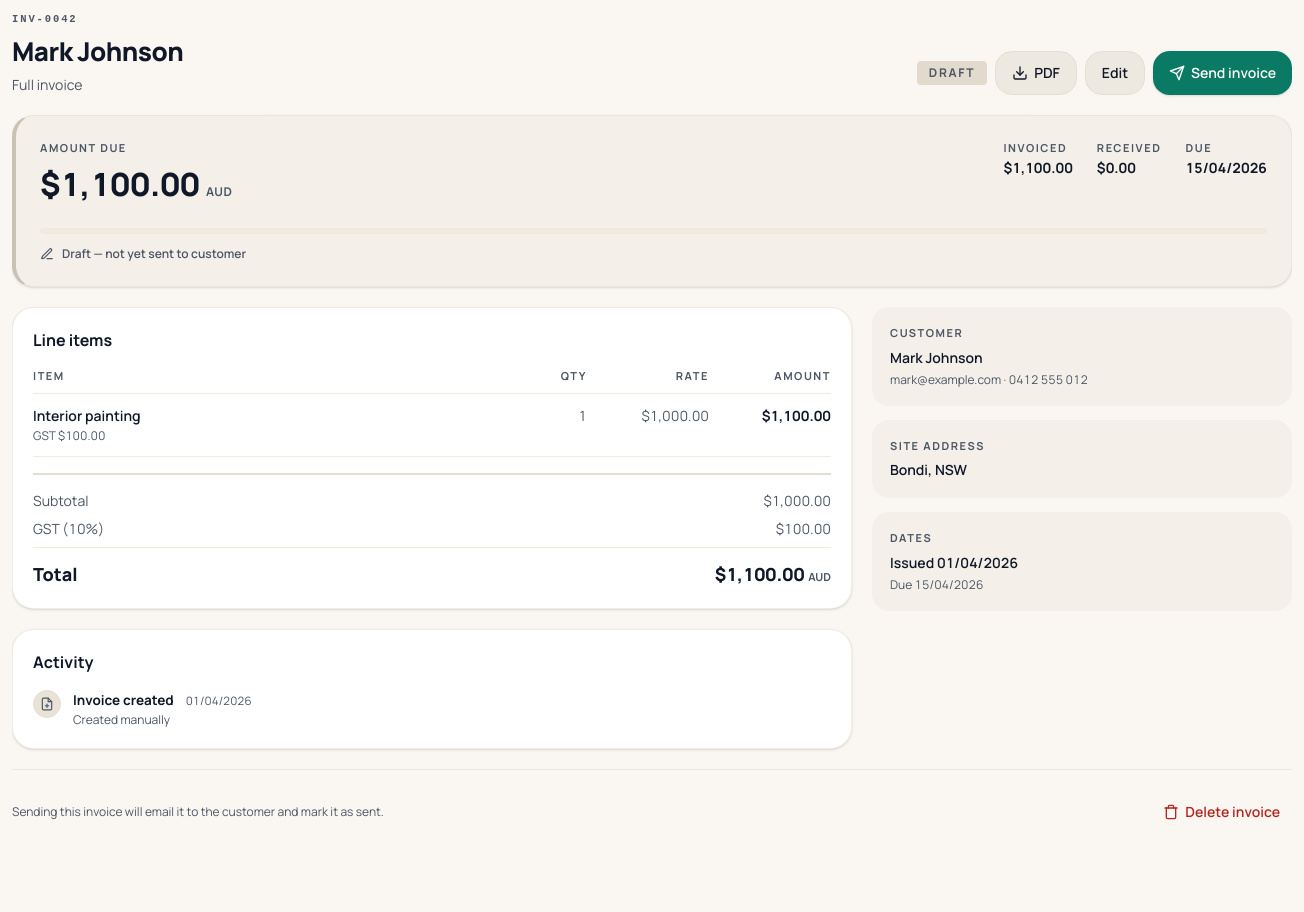
Scenario: invoice action error recovery › shows returned send errors and re-enables the send action
Click the button "Send invoice": x=1223, y=73 [1153,51,1292,95]
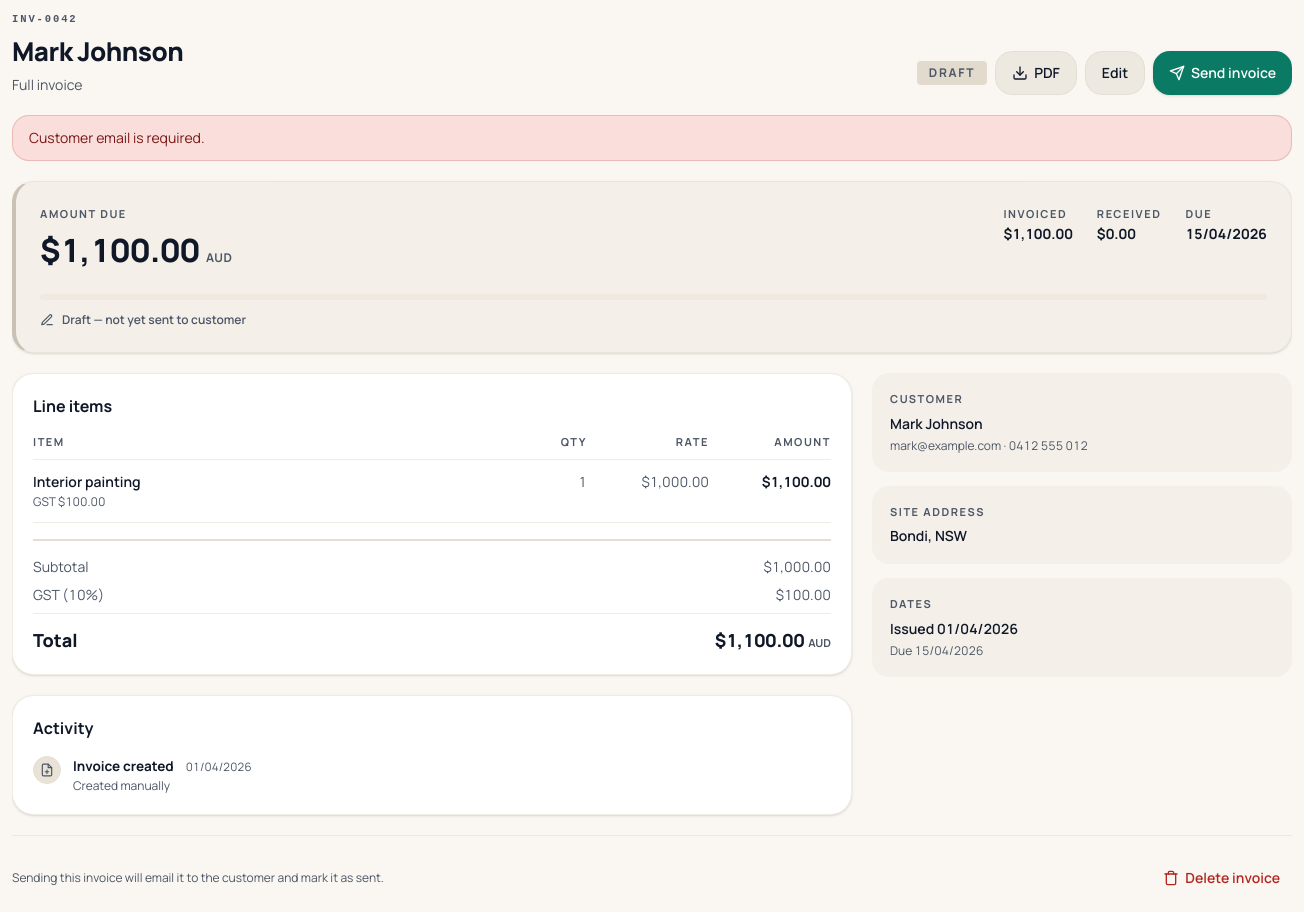
Result: the text "Customer email is required." is shown at [12,115,1292,161]
